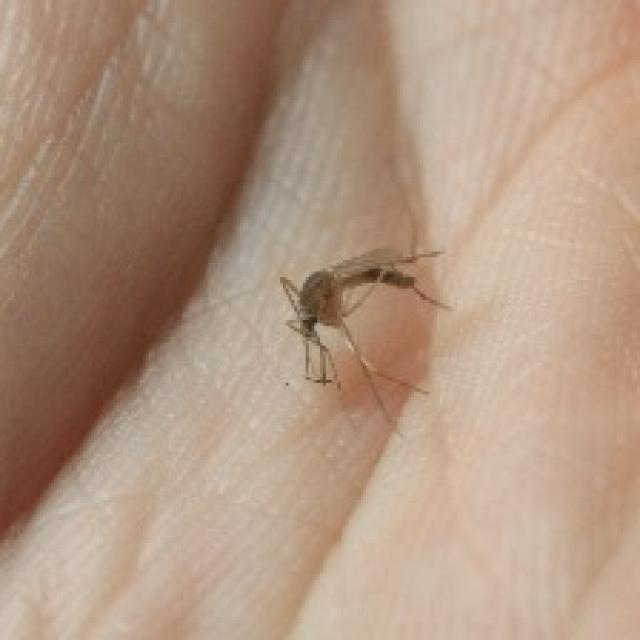culex: (277, 243, 452, 434)
